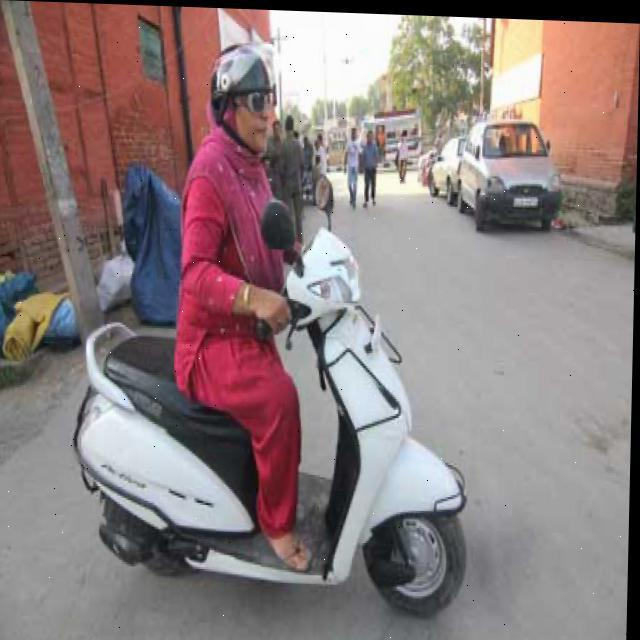Helmet: (202, 34, 281, 151)
